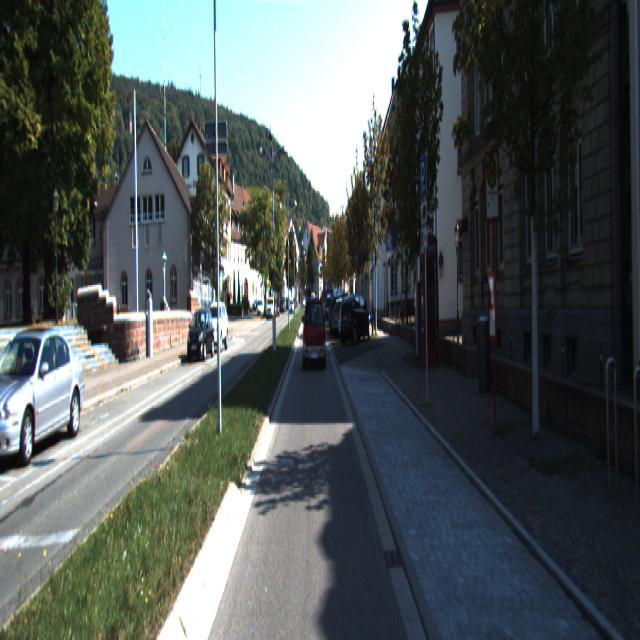Car: (0, 328, 88, 466), (339, 294, 374, 348), (304, 299, 327, 370), (338, 294, 372, 342), (187, 310, 217, 362), (331, 297, 365, 338), (203, 304, 229, 353)
